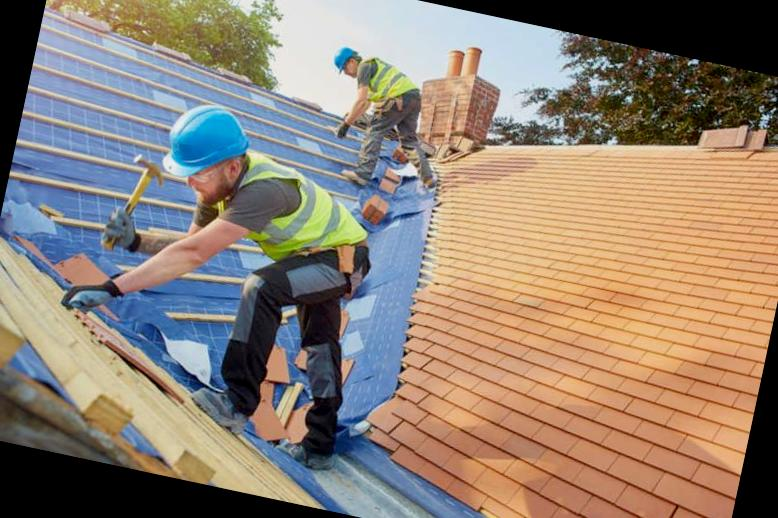helmet: (155, 93, 263, 200), (328, 42, 360, 80)
person: (98, 92, 404, 470), (307, 42, 467, 206)
